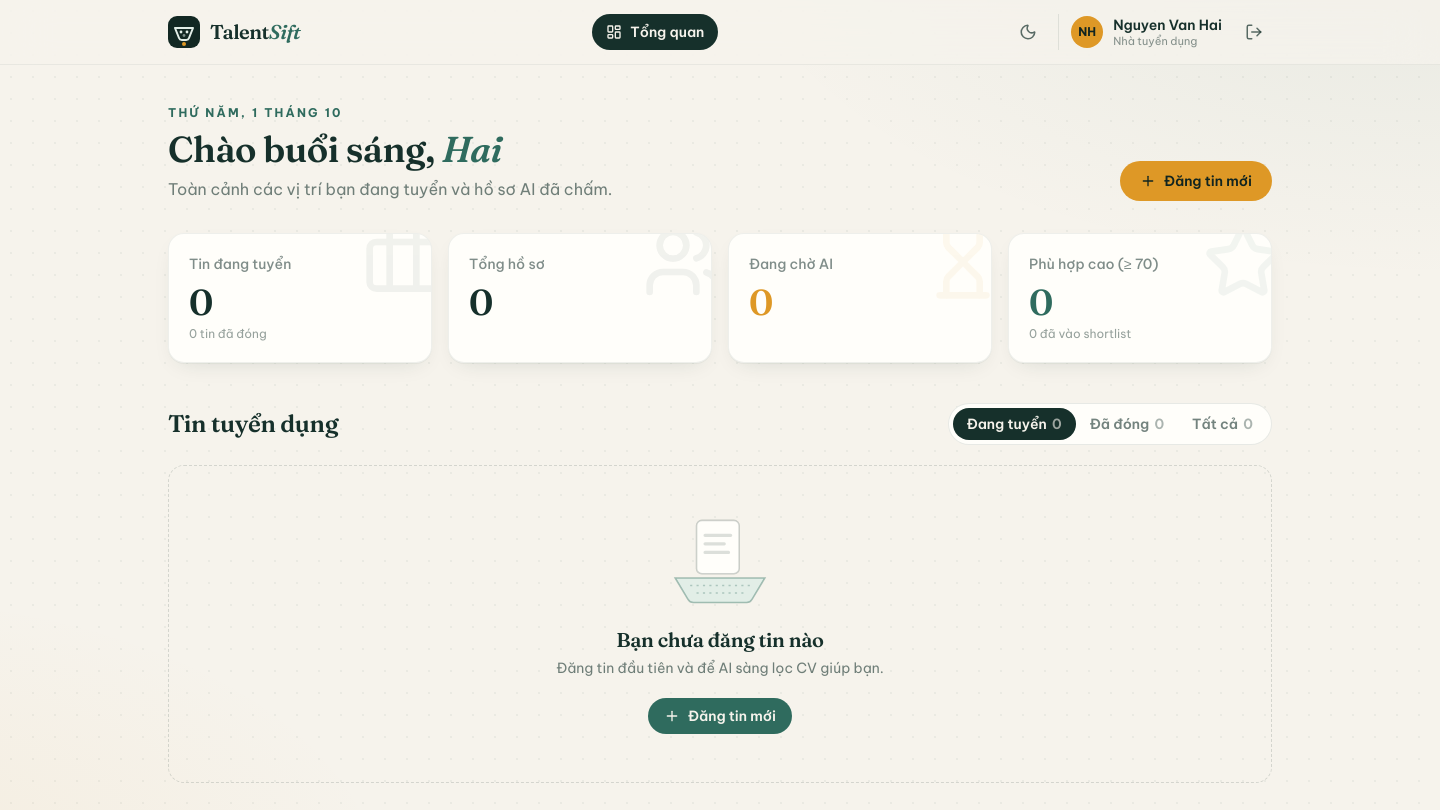
Test case: form dang tin: canh bao ky nang AI khong nhan ra › liet ke ky nang khong nhan dien duoc va cho bam goi y de thay
Click the button "Đăng tin mới" in the row of "Chào buổi sáng".
click(1196, 181)  # box [1120,161,1272,201]
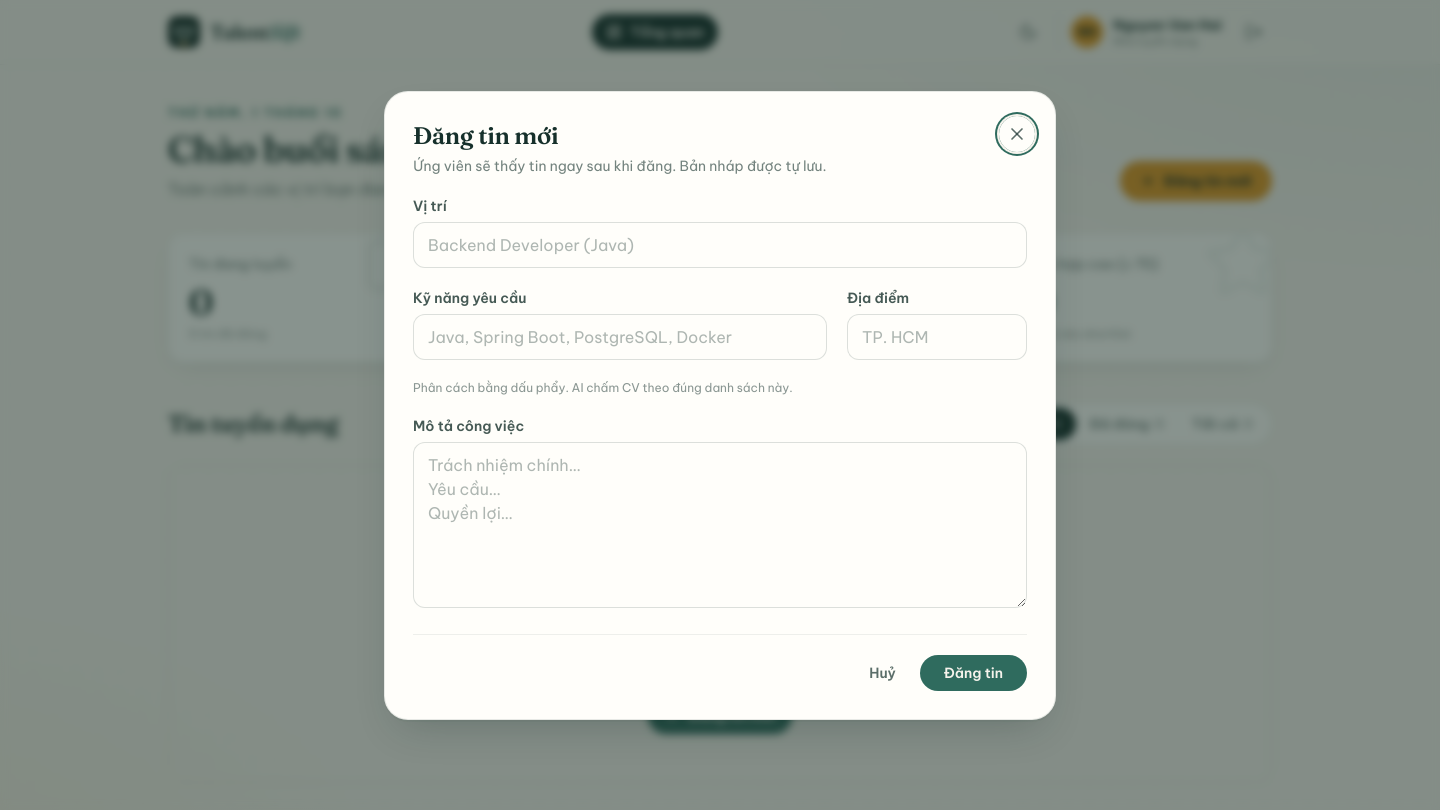
Type "Java, Tiếng Anh, ReactJS" into the field labelled "Kỹ năng yêu cầu".
click(620, 336); type("Java, Tiếng Anh, ReactJS")  # box [413,314,827,360]
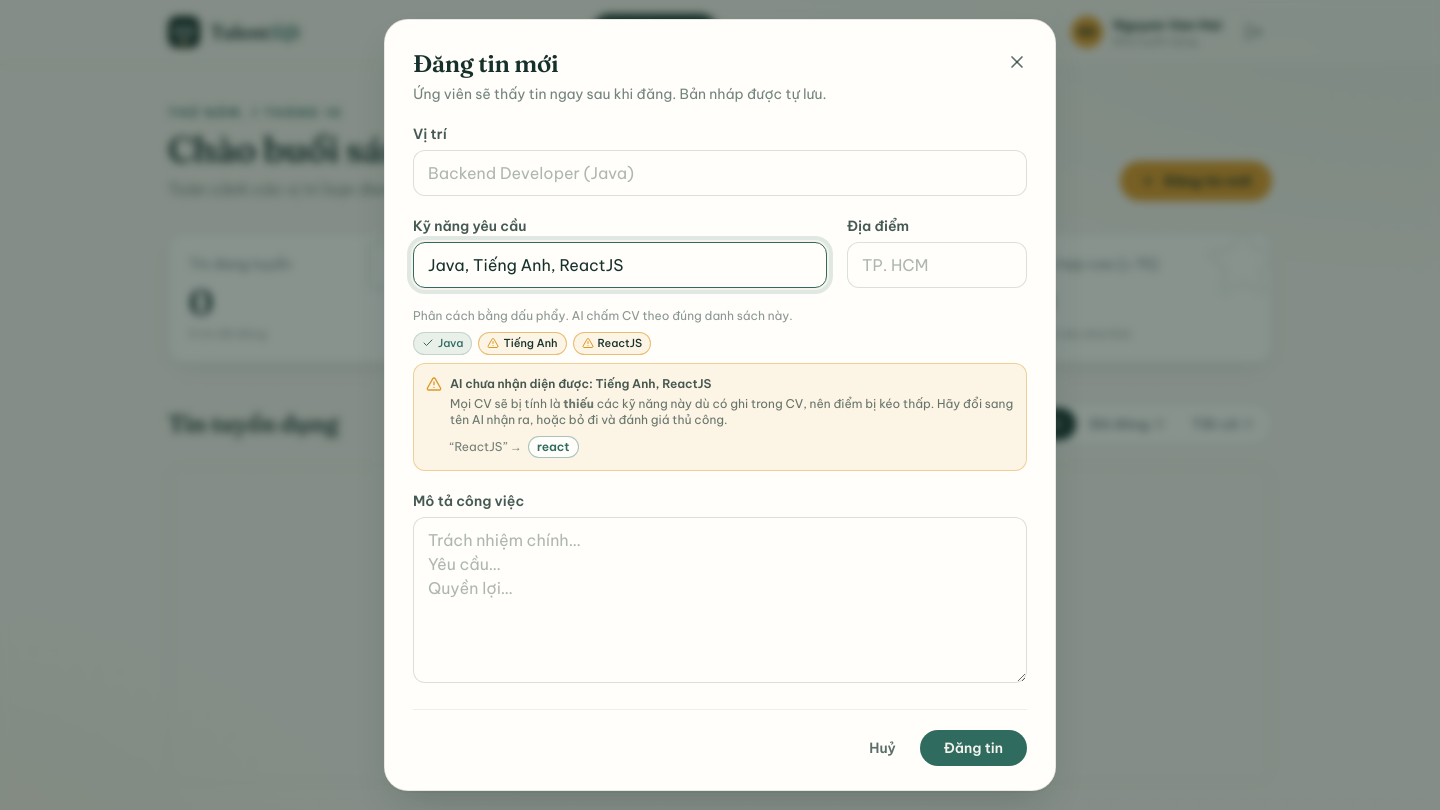
Now the text "AI chưa nhận diện được: Tiếng Anh, ReactJS" is shown, box [426,376,711,392]
Click the button "react".
click(553, 446)  # box [528,436,579,458]
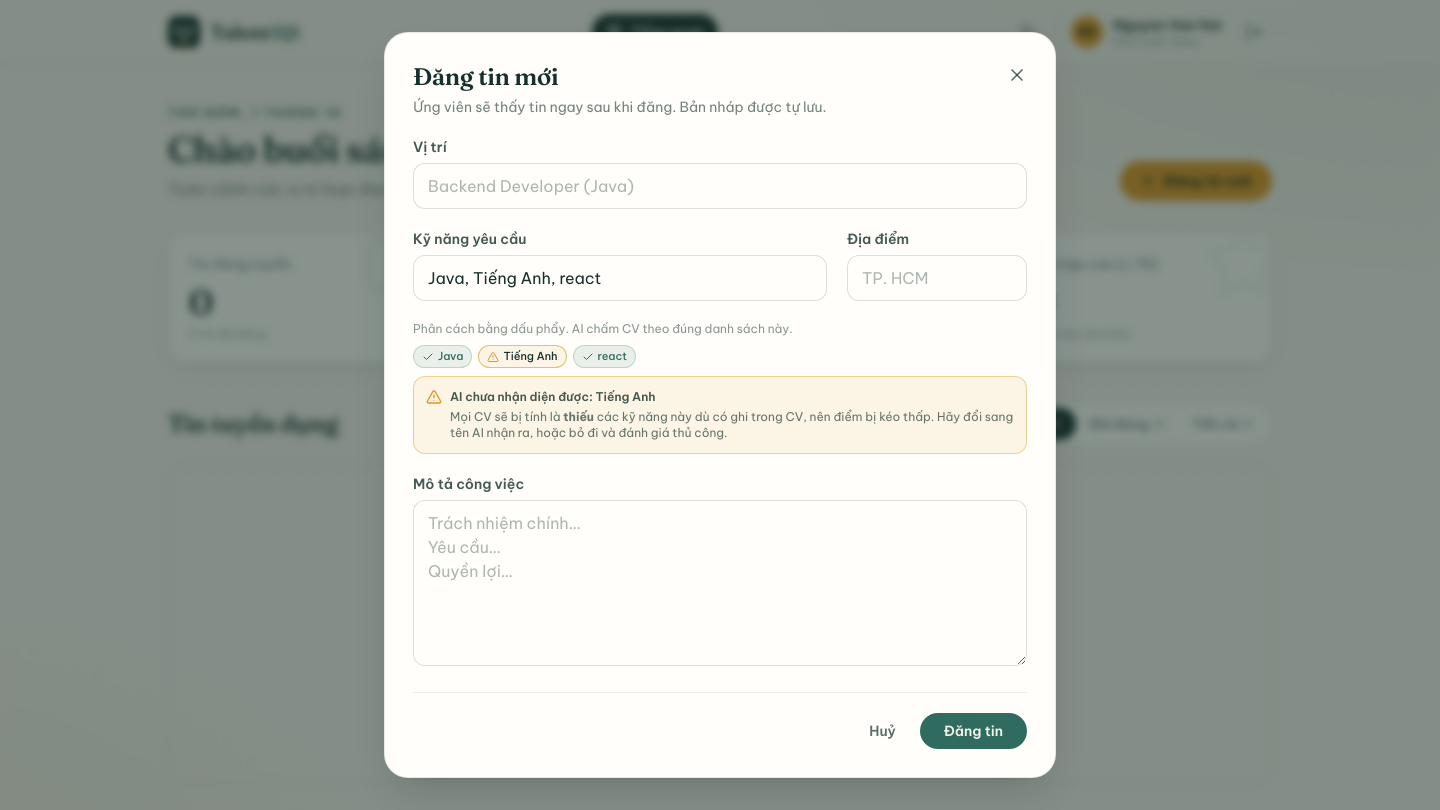
Now the text "AI chưa nhận diện được: Tiếng Anh" is shown, box [426,389,655,405]
Now the field labelled "Kỹ năng yêu cầu" holds "Java, Tiếng Anh, react", box [413,255,827,301]
